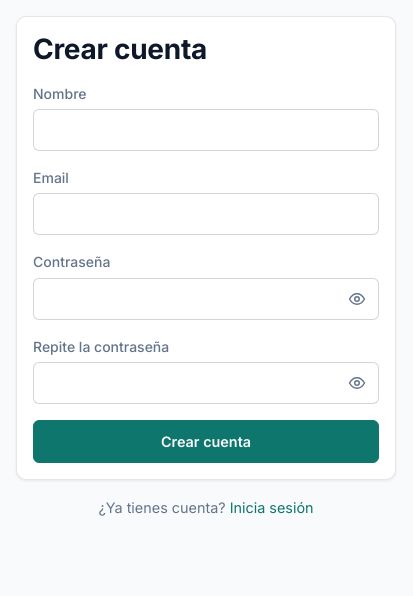
Test: RegisterView › shows a generic error for a non-validation failure
Type "Odei" into the field with id "name".
click(206, 130); type("Odei")  # box 33,109 -> 379,151
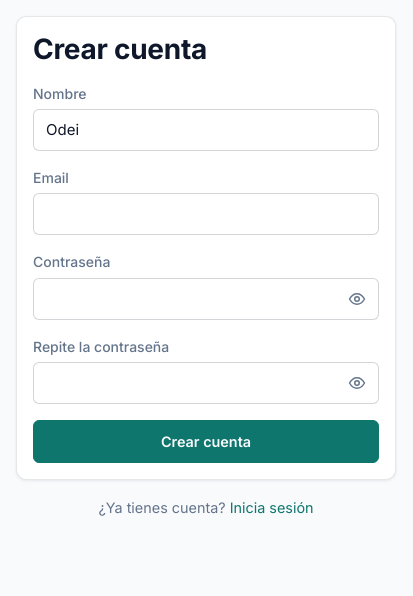
Type "odei@example.com" into the field with id "email".
click(206, 214); type("odei@example.com")  # box 33,193 -> 379,235
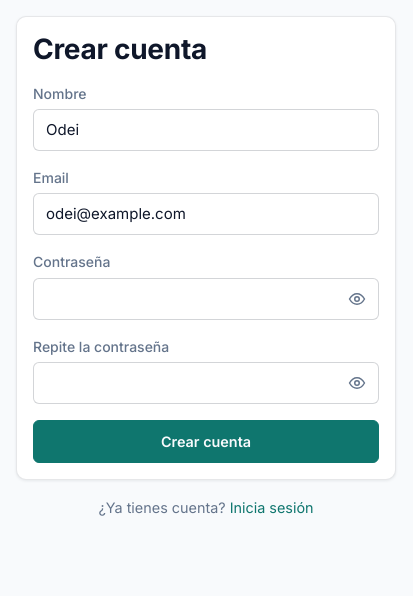
Type "secreto123" into the password field labelled "Contraseña".
click(206, 299); type("secreto123")  # box 33,278 -> 379,320
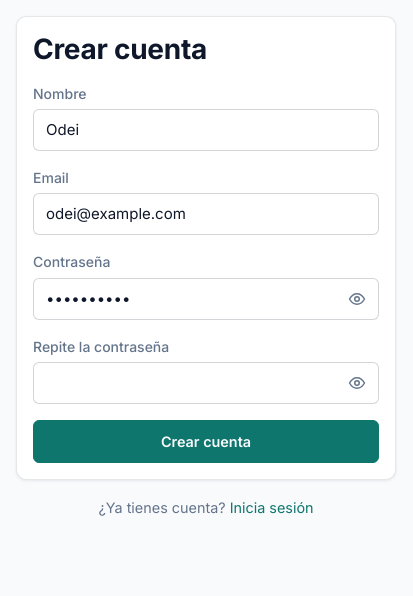
Type "secreto123" into the password field labelled "Repite la contraseña".
click(206, 383); type("secreto123")  # box 33,362 -> 379,404
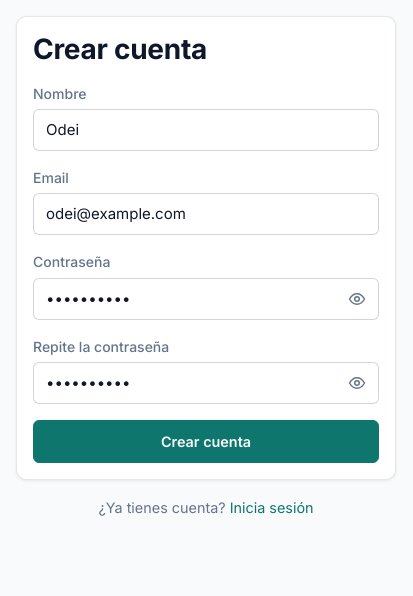
Submit the form, box 33,83 -> 379,463
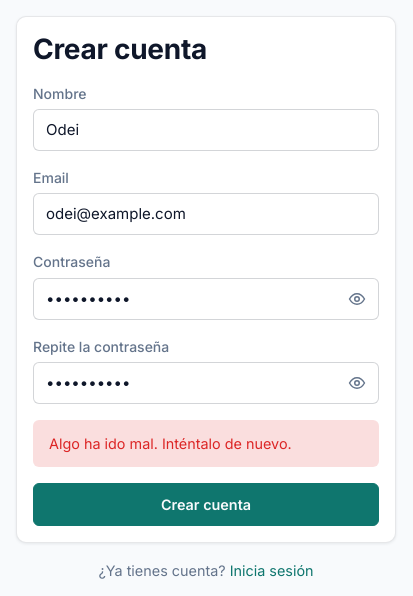
Check: the message "Algo ha ido mal. Inténtalo de nuevo." is shown, box 33,420 -> 379,467
